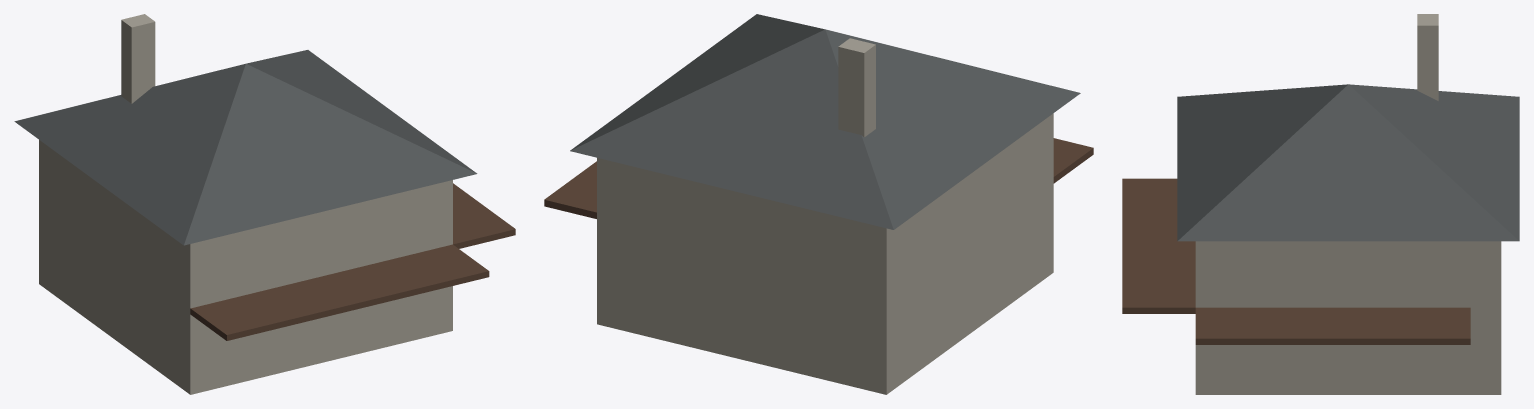
Rendered from cr-foursquare.towns-v1.lod2.glb.
3 renders of one model, left to right at view 1: azimuth 30°, elevation 25°; view 2: azimuth 150°, elevation 25°; view 3: azimuth 270°, elevation 25°, orthographic. The views are drawn at different scales.
Parts seen in each view (by area): view 1: cr-foursquare; view 2: cr-foursquare; view 3: cr-foursquare.
Part boxes in pixels (x1,y1,x2,y2): cr-foursquare: [14, 14, 515, 394]; cr-foursquare: [544, 14, 1093, 394]; cr-foursquare: [1122, 14, 1519, 394].
Size of the model in its own units: 13 by 10 by 13.
